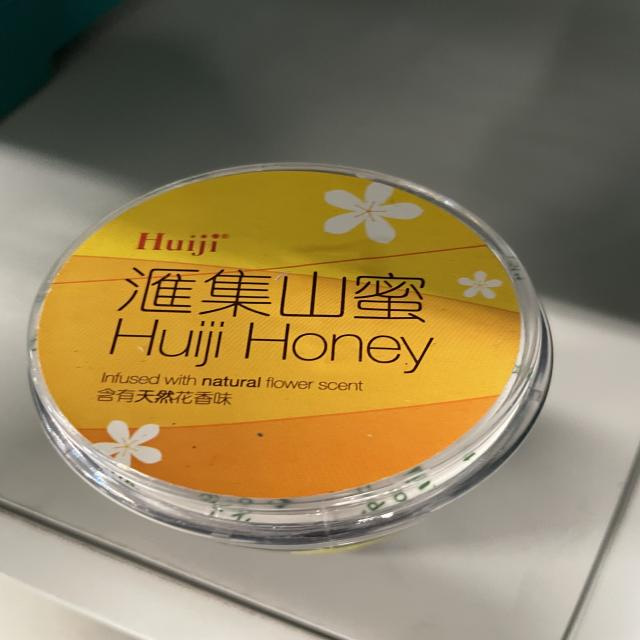object_name: (36, 171, 567, 550)
